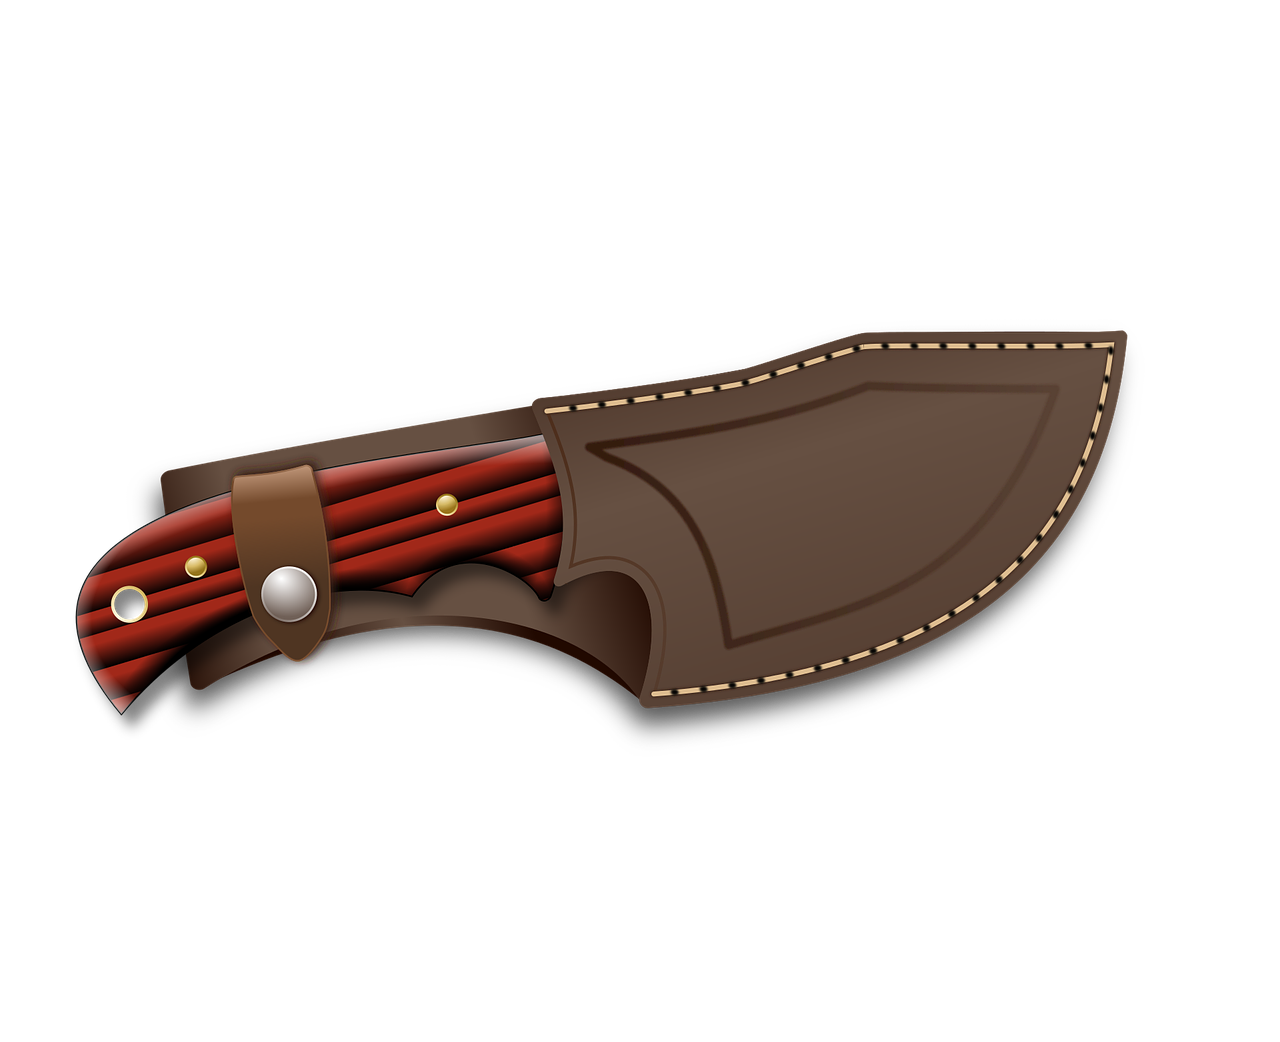knife: (63, 318, 1166, 753)
